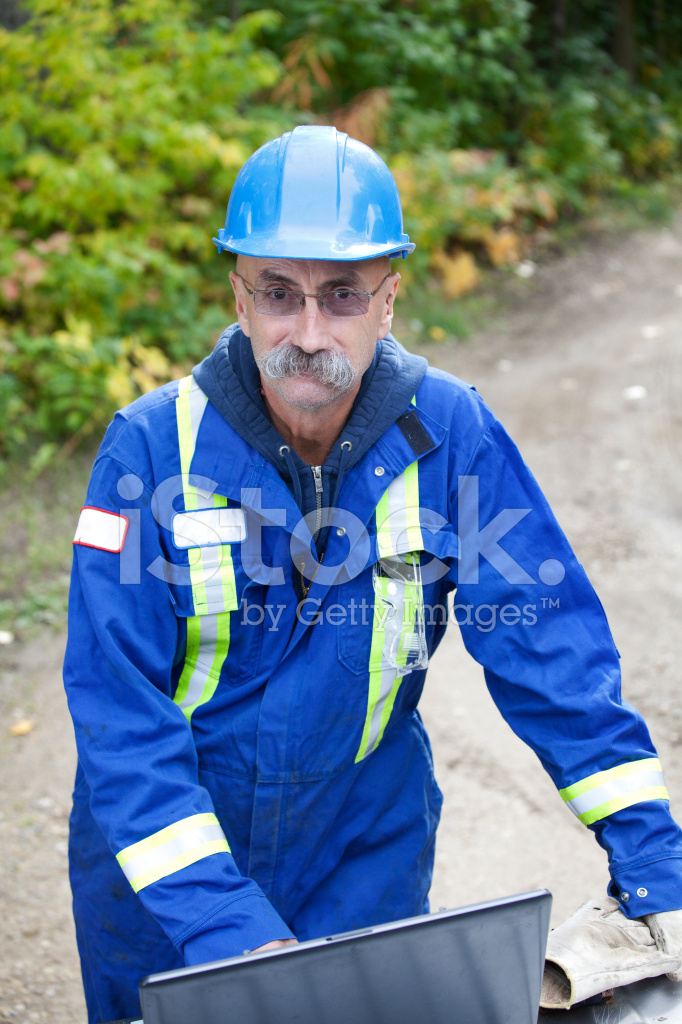Person_wearing_helmet: (204, 109, 432, 301)
